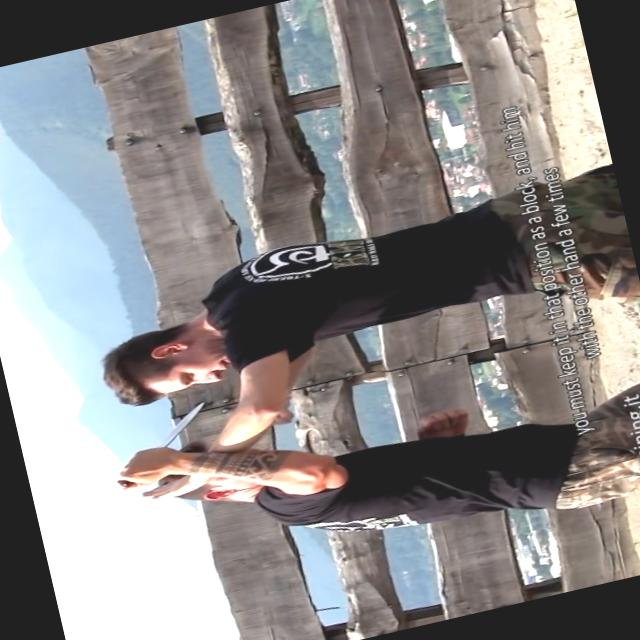knife: (94, 396, 228, 496)
